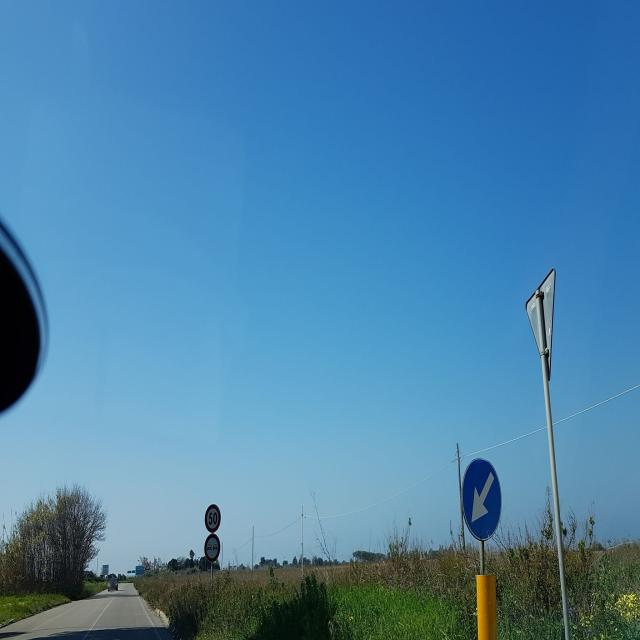car: (108, 573, 119, 591)
